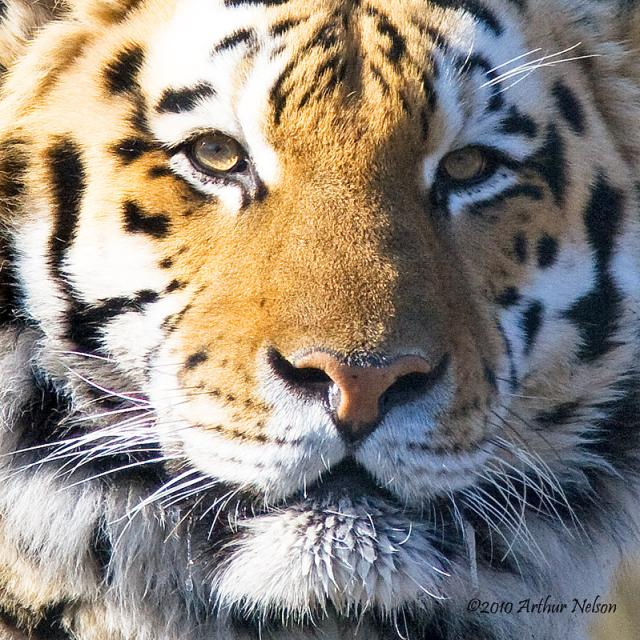Tiger: (0, 1, 638, 637)
